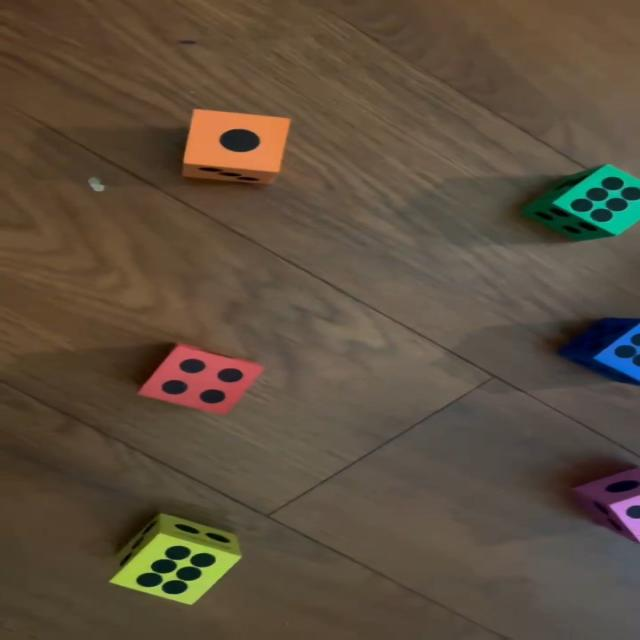blue_block: (564, 318, 640, 384)
red_block: (137, 342, 263, 414)
